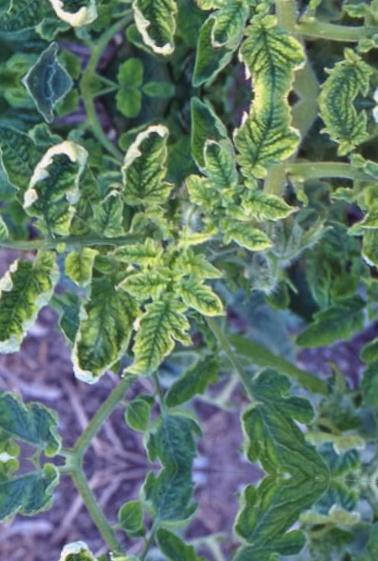Tomato leaf yellow virus: (0, 247, 70, 360), (225, 94, 305, 186), (120, 288, 191, 384), (20, 134, 85, 233), (119, 120, 177, 209), (313, 100, 374, 153), (114, 265, 170, 308), (0, 144, 15, 269)
